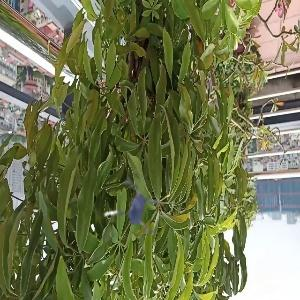drone: (76, 161, 174, 259)
